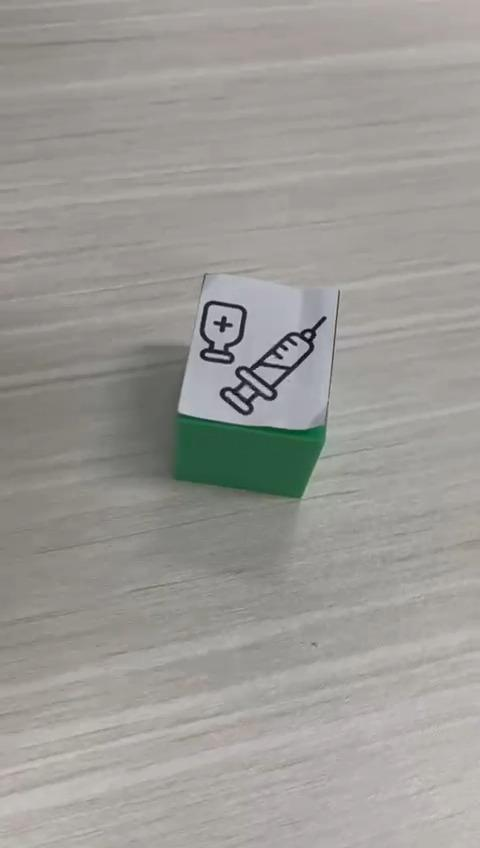antiseptic cream: (171, 270, 341, 499)
